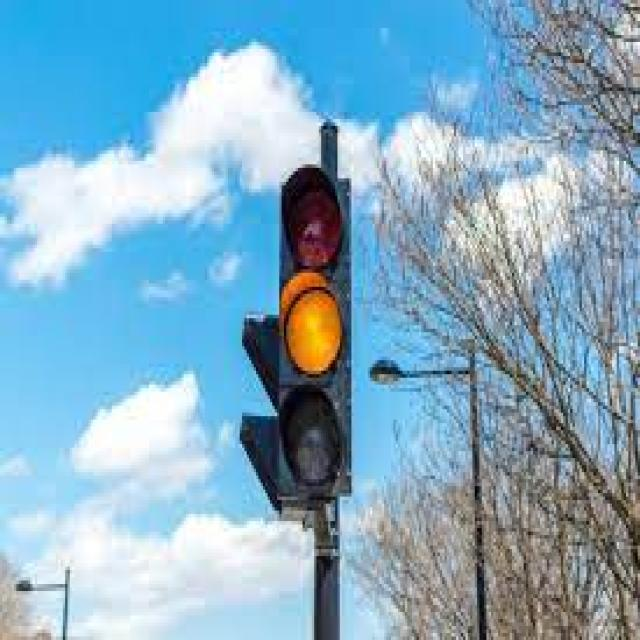yellow light: (279, 170, 348, 506)
